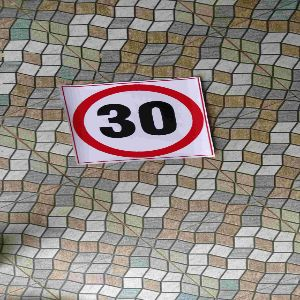speedlimit30: (66, 85, 212, 158)
